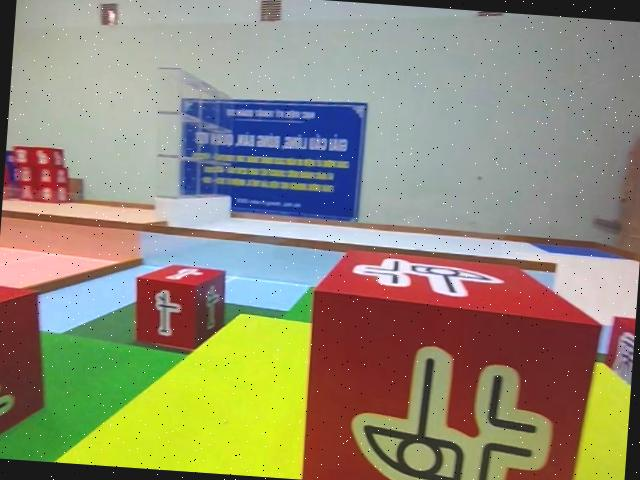R2 Real: (299, 246, 607, 480), (132, 262, 226, 359)
